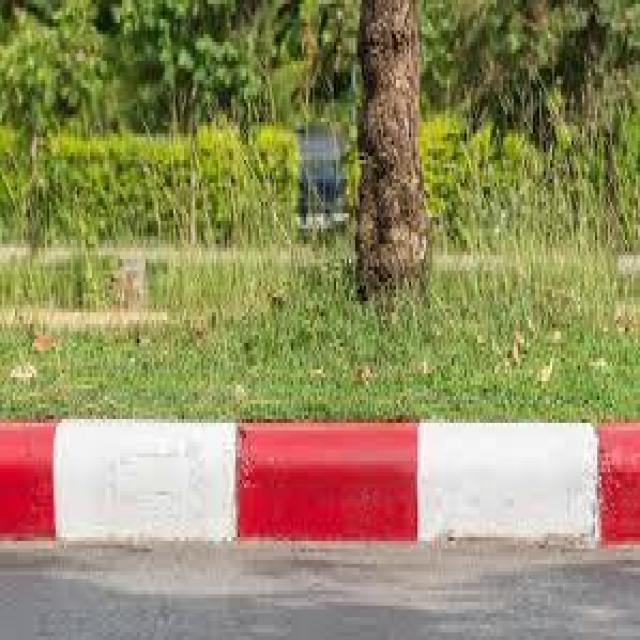curb: (1, 408, 640, 559)
